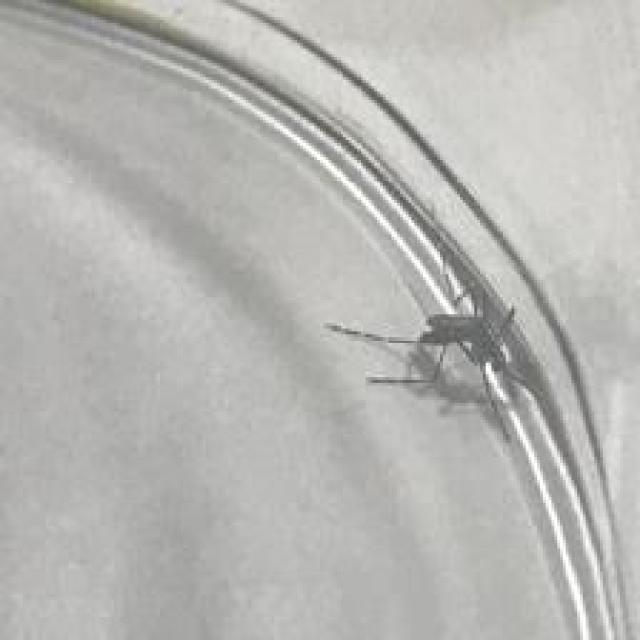Aedes albopictus: (323, 258, 528, 418)
